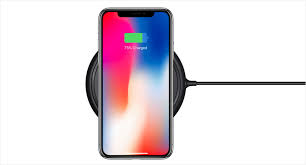iphone: (95, 7, 176, 158)
iphone10: (95, 7, 176, 158)
